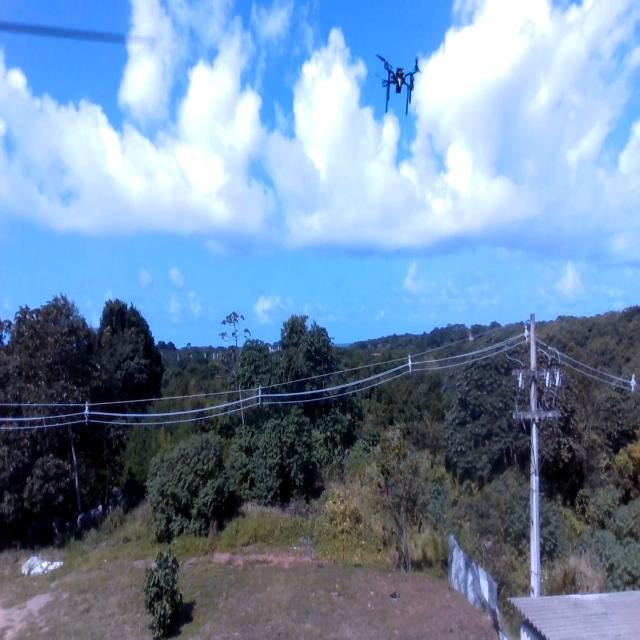-uav-: (370, 39, 427, 123)
